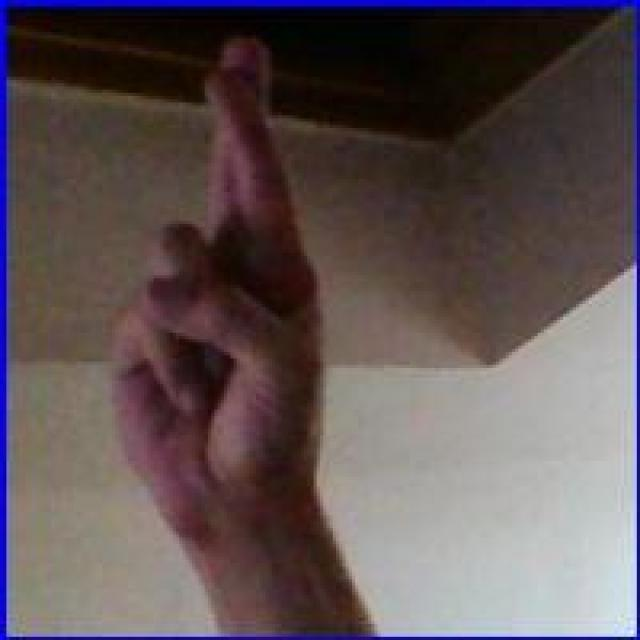R: (104, 29, 334, 531)
